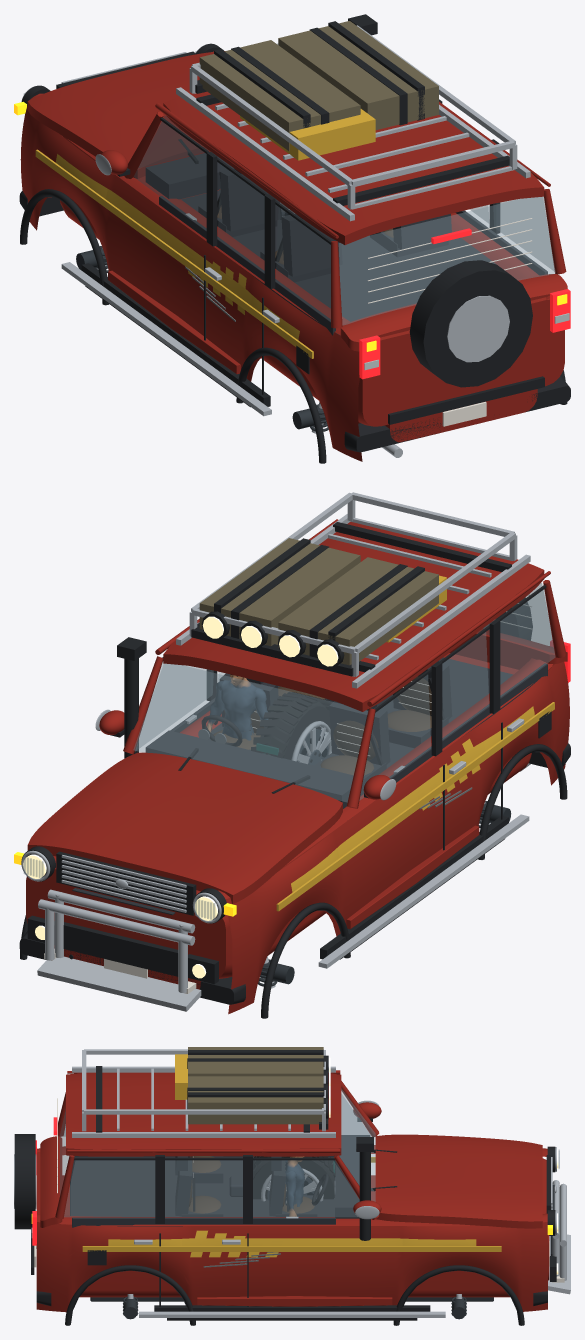
Rendered from dragon-cruiser.glb.
3 views of the same model, one above another, from view 1: azimuth 30°, elevation 25°; view 2: azimuth 150°, elevation 25°; view 3: azimuth 270°, elevation 25° (orthographic). The views are drawn at different scales.
Parts seen in each view (by area): view 1: body_high, body_low, cosmetic_carrier (×2), cosmetic_basket, cosmetic_stripe (×2), cosmetic_trail, cosmetic_summit; view 2: body_high, body_low, cosmetic_carrier (×2), cosmetic_trail, cosmetic_basket, cosmetic_lamps, cosmetic_stripe (×2), wheel_high, rim_touring; view 3: body_high, body_low, cosmetic_carrier (×2), cosmetic_trail, cosmetic_basket, cosmetic_stripe (×2), wheel_high, cosmetic_summit, wheel_low, cosmetic_lamps.
Part boxes in pixels (x1,y1,x2,y2): body_high: [14, 16, 570, 463]; body_low: [14, 14, 570, 459]; cosmetic_carrier (×2): [199, 21, 438, 151]; cosmetic_basket: [189, 25, 517, 209]; cosmetic_stripe (×2): [56, 154, 299, 340]; cosmetic_trail: [61, 262, 271, 416]; cosmetic_summit: [186, 250, 246, 314]; body_high: [15, 514, 570, 1018]; body_low: [14, 514, 570, 1014]; cosmetic_carrier (×2): [199, 538, 438, 665]; cosmetic_trail: [37, 814, 529, 1011]; cosmetic_basket: [189, 492, 517, 676]; cosmetic_lamps: [191, 611, 353, 676]; cosmetic_stripe (×2): [291, 706, 534, 892]; wheel_high: [251, 692, 331, 758]; rim_touring: [291, 721, 330, 765]; body_high: [14, 1056, 563, 1325]; body_low: [31, 1054, 564, 1324]; cosmetic_carrier (×2): [187, 1047, 324, 1124]; cosmetic_trail: [139, 1183, 570, 1317]; cosmetic_basket: [82, 1049, 325, 1131]; cosmetic_stripe (×2): [108, 1238, 476, 1245]; wheel_high: [253, 1156, 335, 1198]; cosmetic_summit: [190, 1230, 283, 1257]; wheel_low: [253, 1156, 334, 1199]; cosmetic_lamps: [319, 1055, 330, 1129].
Size of what is drawn, in the model's own units: 2.41 by 2.29 by 5.34.
